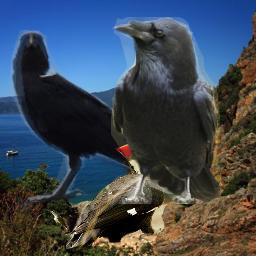Crow: (9, 30, 183, 203), (111, 17, 221, 204)
Cuckoo: (50, 210, 71, 235)
Woodpecker: (66, 142, 190, 250)
